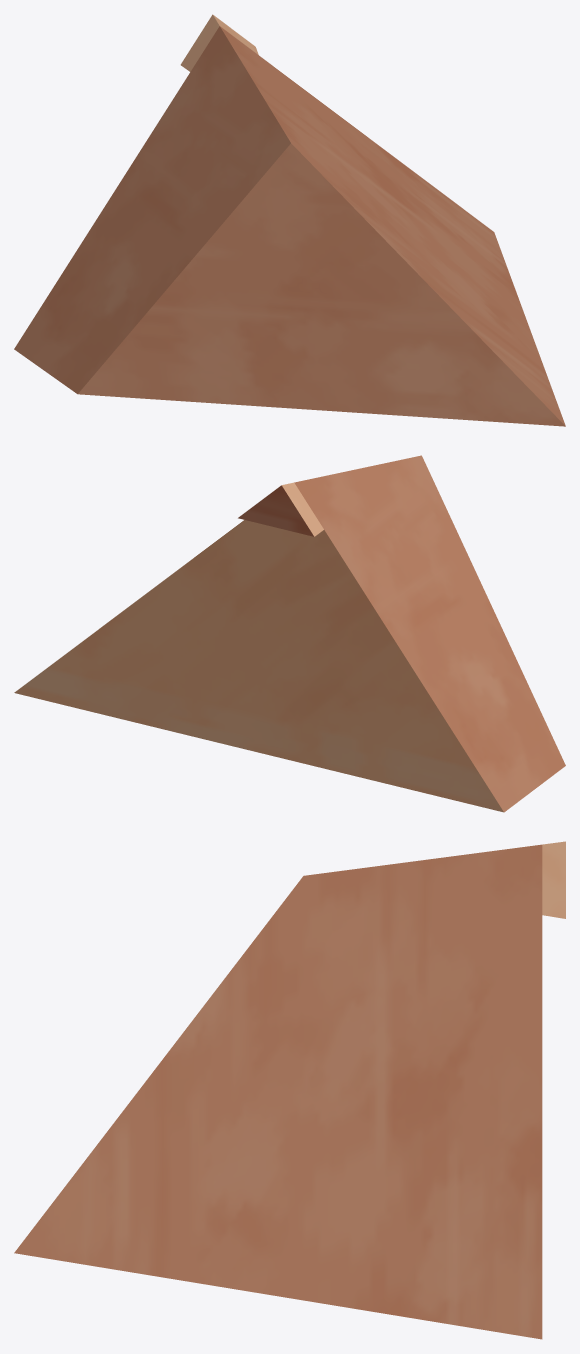
File: divan_s03.fbx
The picture shows the model from 3 angles, top to bottom: view 1: azimuth 30°, elevation 25°; view 2: azimuth 150°, elevation 25°; view 3: azimuth 270°, elevation 25°; orthographic projection. The views are drawn at different scales.
Visible parts, largest first — view 1: divan_s03; view 2: divan_s03; view 3: divan_s03.
Boxes of the visible parts, <box> form: divan_s03: <box>14,14,565,426</box>; divan_s03: <box>14,455,565,812</box>; divan_s03: <box>14,841,565,1339</box>.
Size of the model in its own units: 2 by 1.1 by 1.63.
